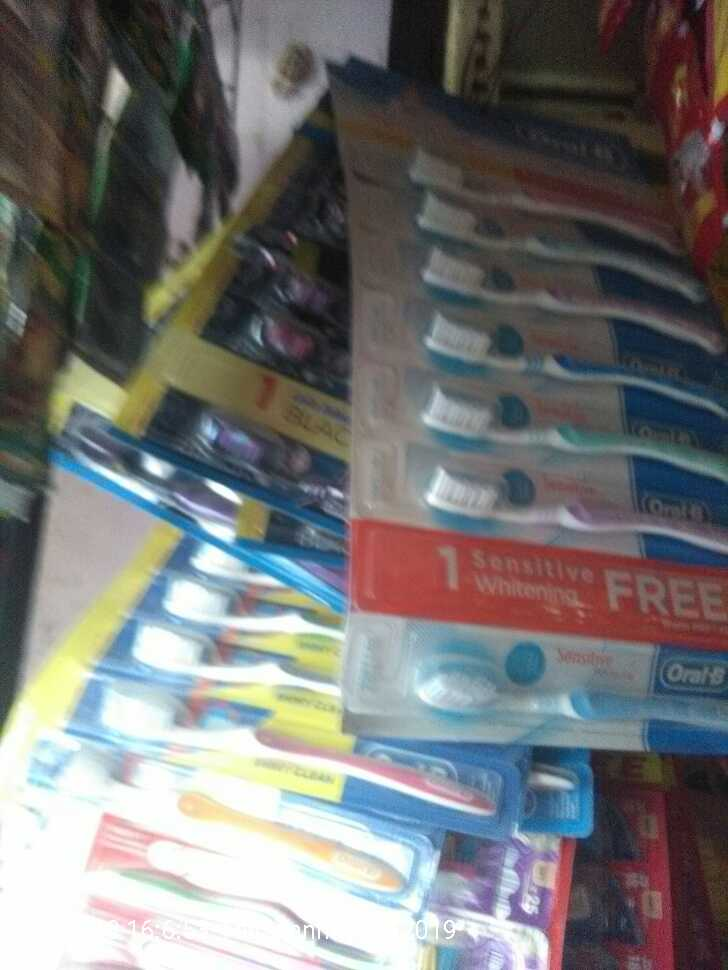oralb: (390, 118, 728, 546), (422, 644, 728, 746)
